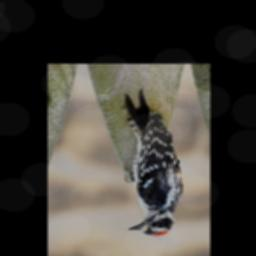Woodpecker: (125, 89, 185, 237)
